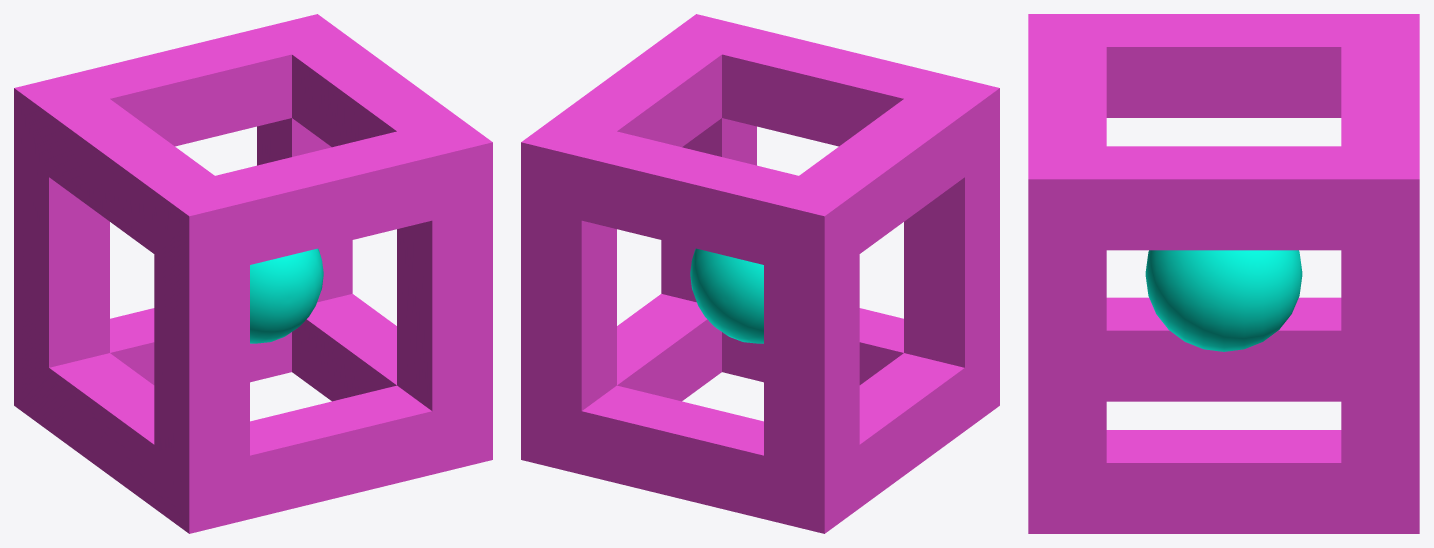
File: shield.obj
3 renders of one model, left to right at view 1: azimuth 30°, elevation 25°; view 2: azimuth 150°, elevation 25°; view 3: azimuth 270°, elevation 25°, orthographic. The views are drawn at different scales.
Visible parts, largest first — view 1: mergedBlocks; view 2: mergedBlocks; view 3: mergedBlocks.
Boxes of the visible parts, bbox=[...] form: mergedBlocks: bbox=[14, 14, 492, 533]; mergedBlocks: bbox=[521, 14, 999, 533]; mergedBlocks: bbox=[1028, 14, 1419, 533].
Size of the model in its own units: 1 by 1 by 1.
